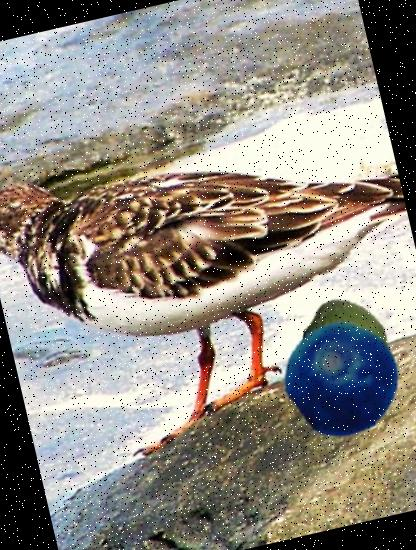Huckleberry: (273, 309, 412, 448)
Limes: (293, 290, 399, 395)
